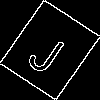J: (24, 24, 73, 77)
